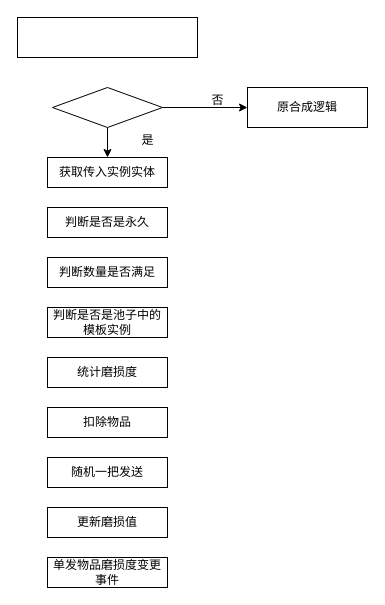
This 385x605 diagram has some shape labels left out. The shapes that lost their labels are listed below. From the top down, each one's centre as x and y in pixels, then its label:
At (107,37): "判定公式类型".
At (107,107): "type=4".
